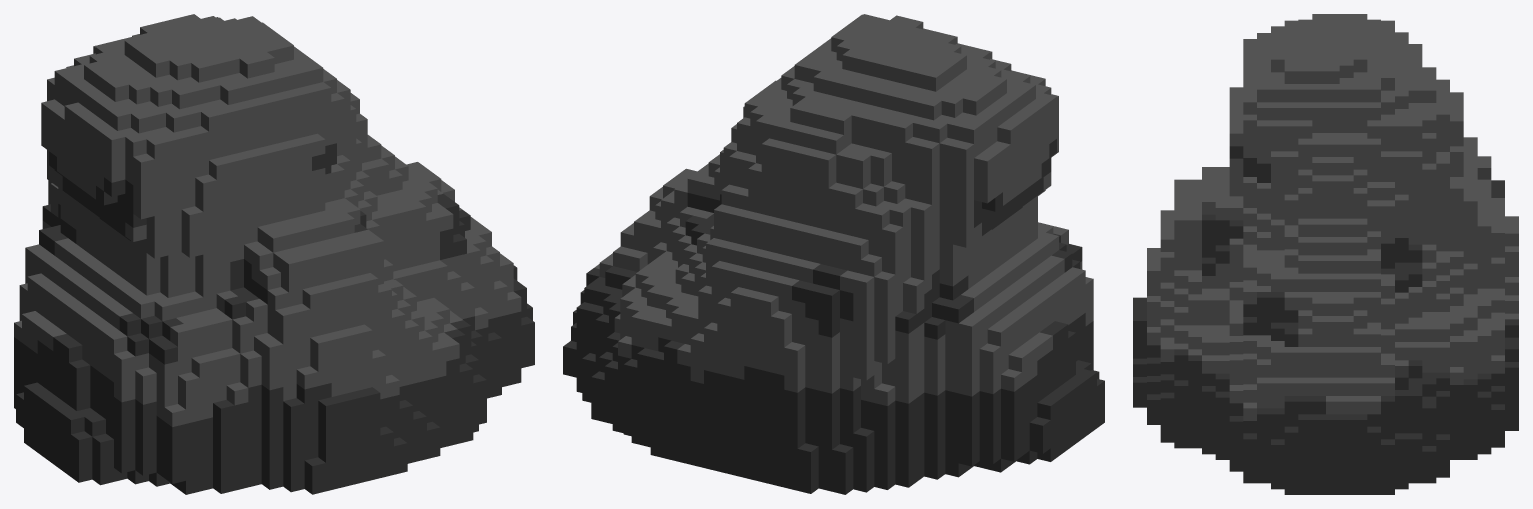
File: rock_3.glb
3 renders of one model, left to right at view 1: azimuth 30°, elevation 25°; view 2: azimuth 150°, elevation 25°; view 3: azimuth 270°, elevation 25°, orthographic. The views are drawn at different scales.
Parts seen in each view (by area): view 1: rock_3; view 2: rock_3; view 3: rock_3.
Boxes of the visible parts, x1,y1,x2,y2 form: rock_3: (14, 14, 534, 494); rock_3: (563, 14, 1104, 494); rock_3: (1133, 14, 1518, 494).
Bounding box in the file's own units: 3.4 × 2.6 × 2.8.
Materials: 1 (1 with a texture image).
